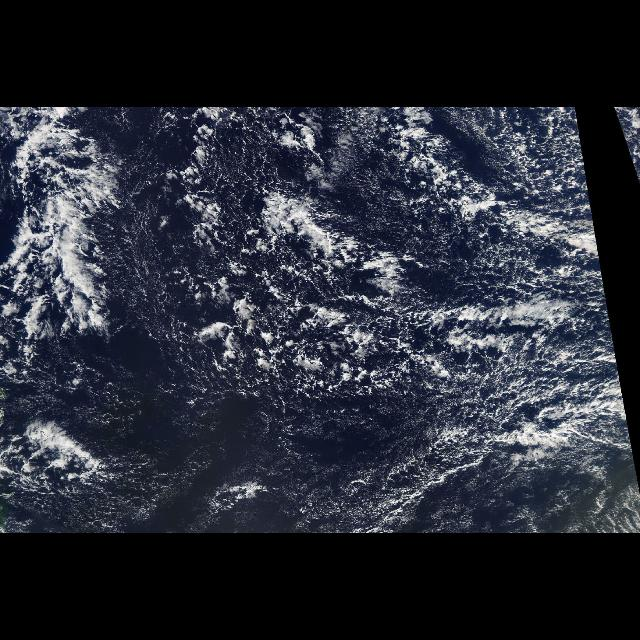Gravel: (180, 109, 632, 478), (612, 108, 632, 162)
Sugar: (110, 392, 438, 528)
